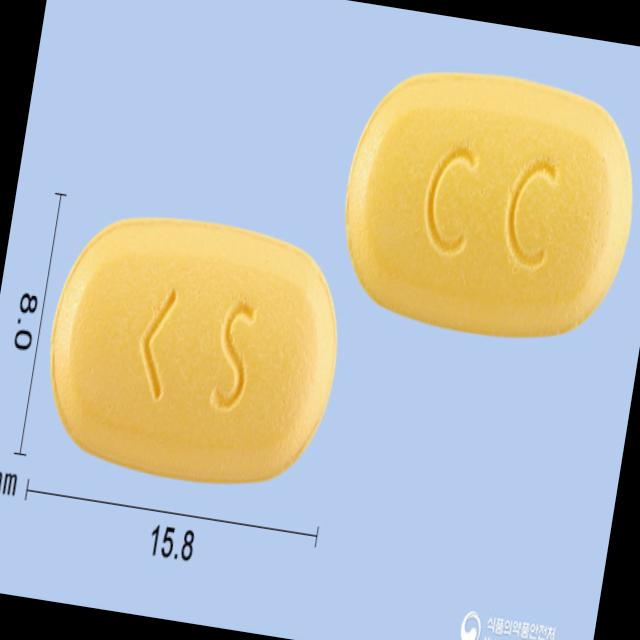Clribio: (32, 202, 356, 498), (328, 47, 640, 350)
